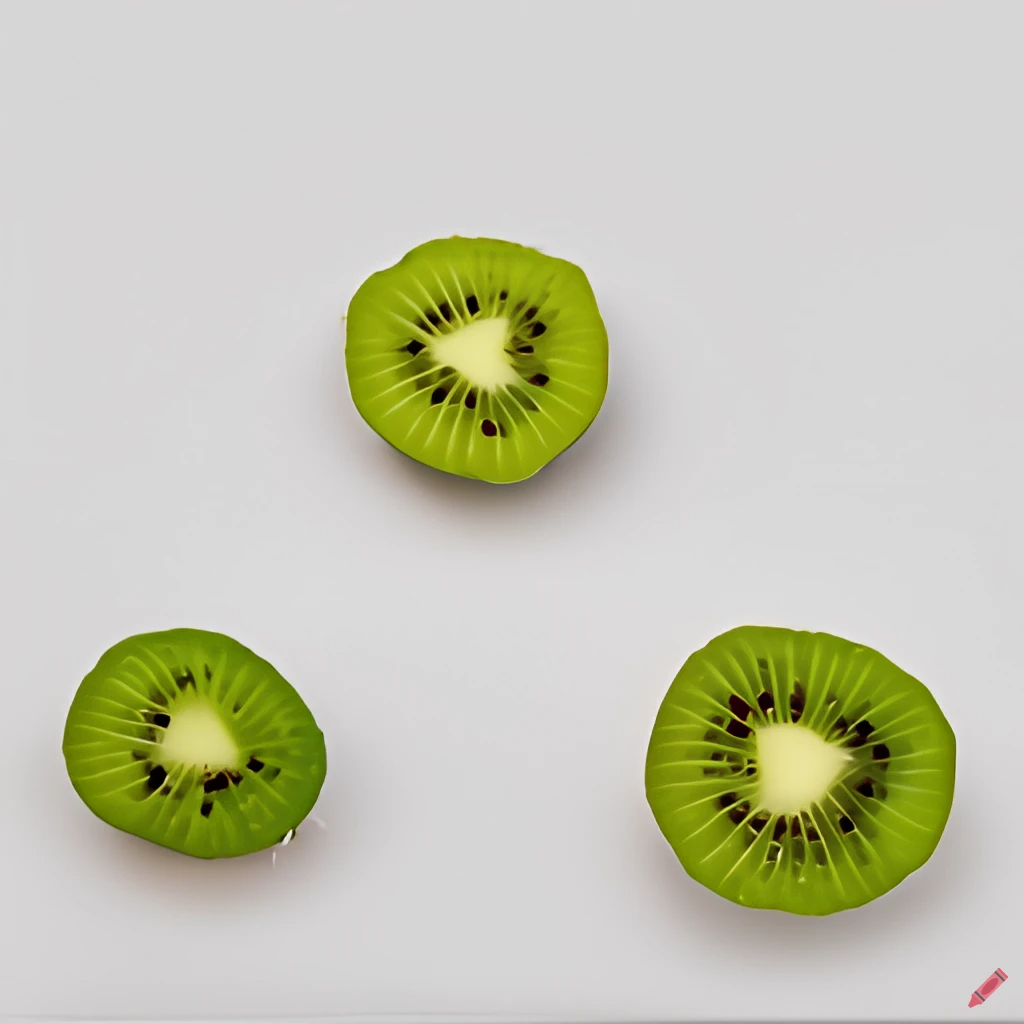Kiwi: (633, 592, 966, 910)
